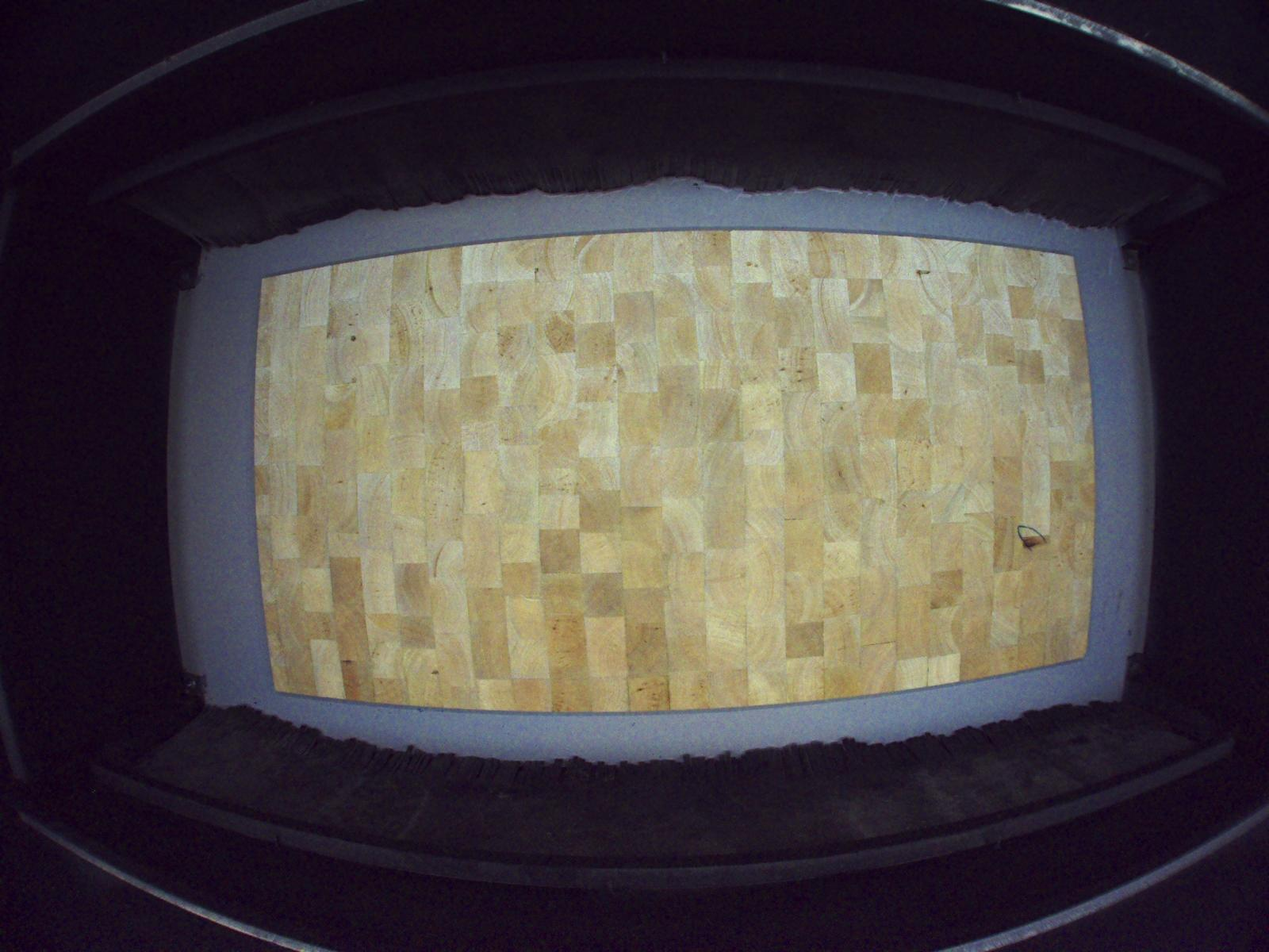nudillo: (1022, 537, 1043, 549)
sheck_ecuatoriano: (916, 270, 953, 320)
